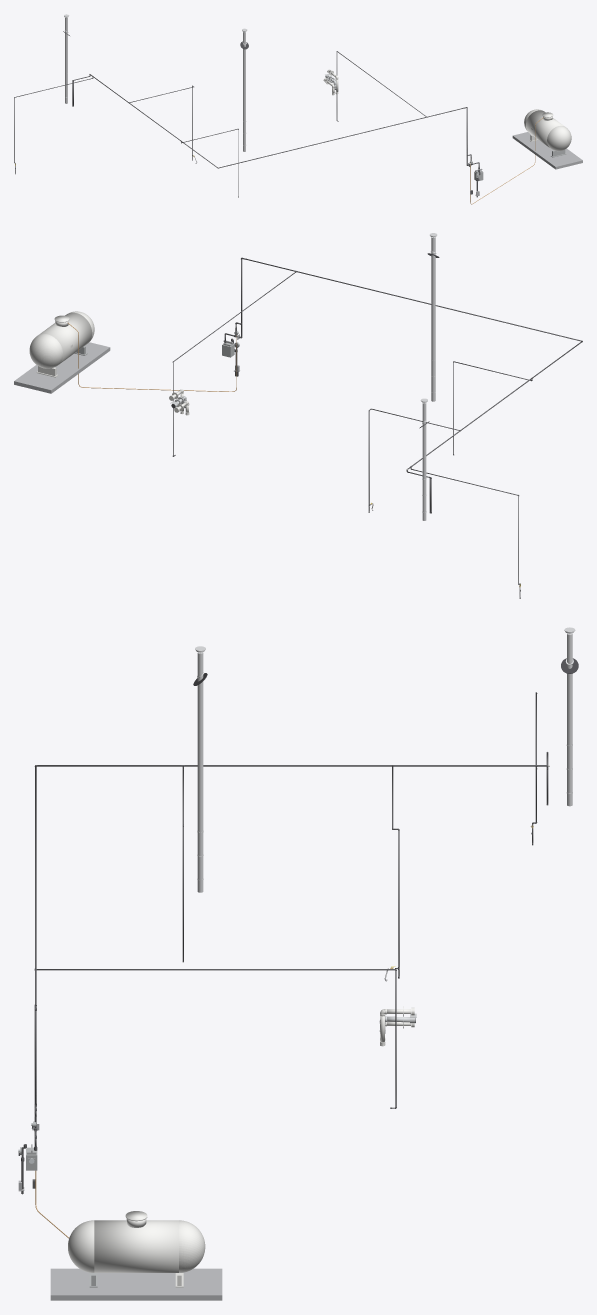
The model's file is slab_pipes_gas.glb.
3 views of the same model, one above another, from view 1: azimuth 30°, elevation 25°; view 2: azimuth 150°, elevation 25°; view 3: azimuth 270°, elevation 25° (orthographic). The views are drawn at different scales.
Parts seen in each view (by area): view 1: fix_propane_tank, pipe_gas_main, vent_gas_wh_flue_closet, vent_gas_furnace_flue; view 2: fix_propane_tank, pipe_gas_main, vent_gas_wh_flue_closet, vent_gas_furnace_flue; view 3: fix_propane_tank, vent_gas_wh_flue_closet, pipe_gas_main, vent_gas_furnace_flue, pipe_gas_drop_wh_tankless.
Boxes of the visible parts, x1,y1,x2,y2 form: fix_propane_tank: (512,109,582,169); pipe_gas_main: (90,74,463,168); vent_gas_wh_flue_closet: (240,28,248,151); vent_gas_furnace_flue: (63,14,69,103); fix_propane_tank: (14,311,110,393); pipe_gas_main: (246,259,582,468); vent_gas_wh_flue_closet: (427,233,439,401); vent_gas_furnace_flue: (419,398,429,520); fix_propane_tank: (50,1211,222,1300); vent_gas_wh_flue_closet: (193,646,207,892); pipe_gas_main: (34,765,545,1004); vent_gas_furnace_flue: (561,627,578,806); pipe_gas_drop_wh_tankless: (37,969,396,1108).
Bounding box in the file's own units: 18.04 × 7.34 × 9.78.
